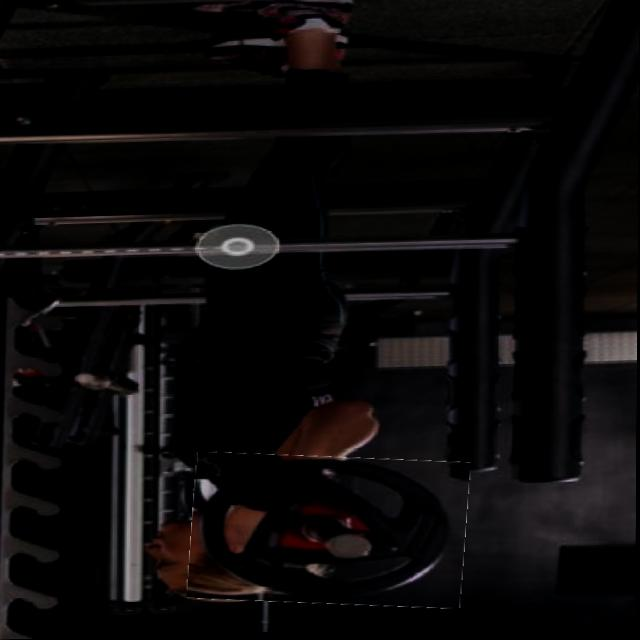barbell: (191, 453, 471, 614)
